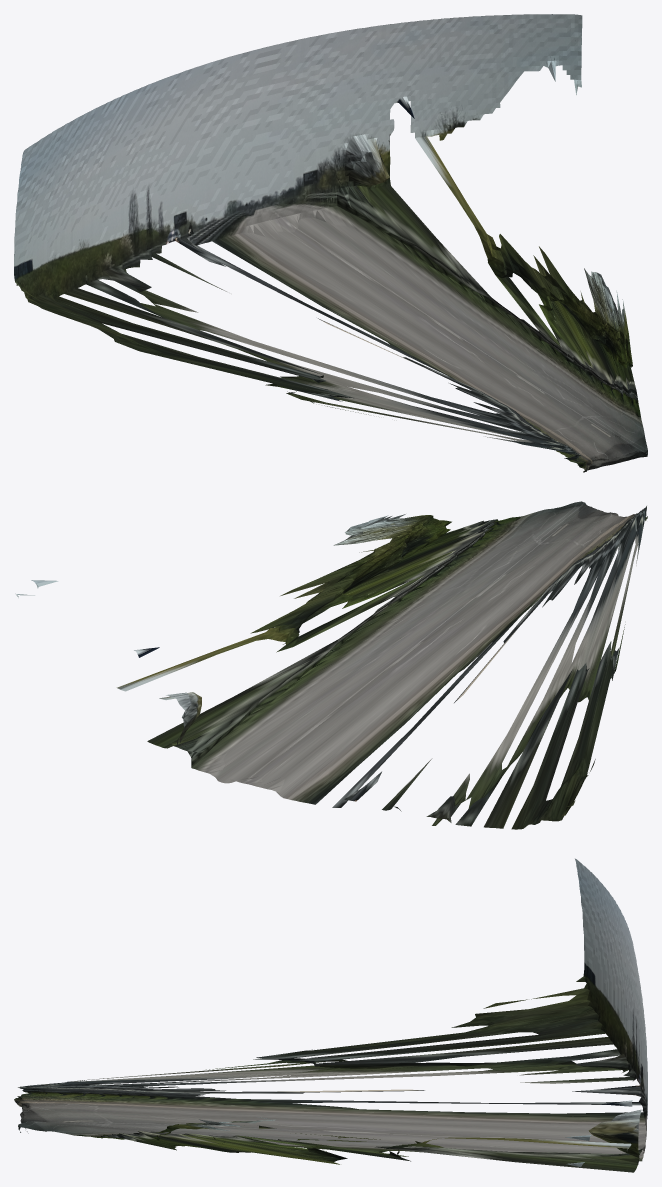
3 renders of one model, top to bottom at view 1: azimuth 30°, elevation 25°; view 2: azimuth 150°, elevation 25°; view 3: azimuth 270°, elevation 25°, orthographic. The views are drawn at different scales.
Parts seen in each view (by area): view 1: defaultobject; view 2: defaultobject; view 3: defaultobject.
Part boxes in pixels (x1,y1,x2,y2): defaultobject: [14, 14, 647, 472]; defaultobject: [15, 501, 647, 829]; defaultobject: [14, 858, 647, 1172].
Bounding box in the file's own units: 41.08 × 13.2 × 44.6.
Materials: 1 (1 with a texture image).
